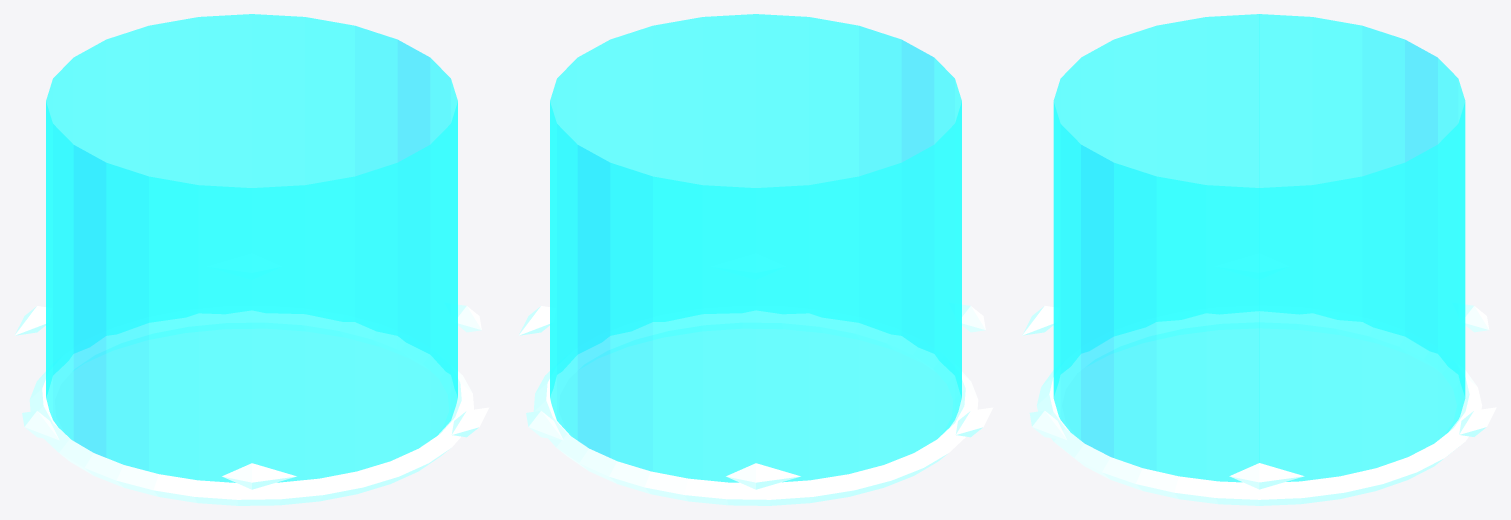
The model's file is fx_spawn_f.glb.
3 renders of one model, left to right at view 1: azimuth 30°, elevation 25°; view 2: azimuth 150°, elevation 25°; view 3: azimuth 270°, elevation 25°, orthographic.
Parts seen in each view (by area): view 1: fx_spawn_f; view 2: fx_spawn_f; view 3: fx_spawn_f.
Boxes of the visible parts, <box> form: fx_spawn_f: <box>14,14,489,505</box>; fx_spawn_f: <box>518,14,993,505</box>; fx_spawn_f: <box>1022,14,1496,505</box>.
Bounding box in the file's own units: 2.5 × 1.66 × 2.26.
